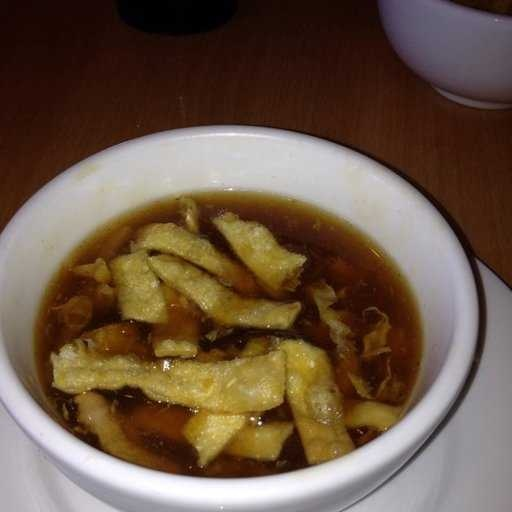soup: (30, 138, 436, 471)
